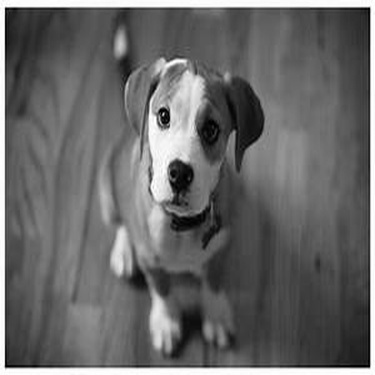dog: (85, 5, 261, 358)
